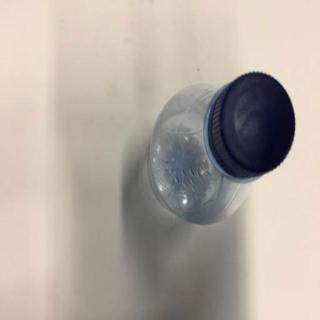Plastic-bottle: (147, 70, 297, 226)
